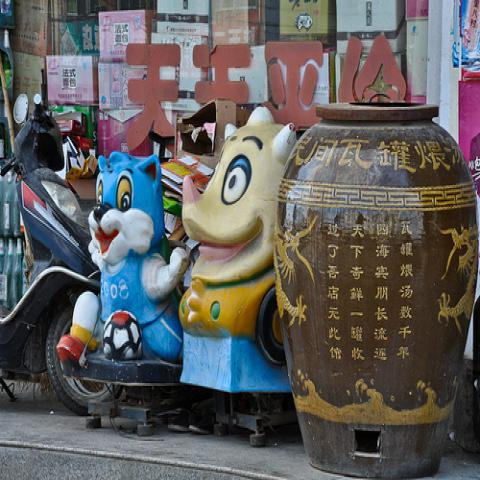motorcycle: (0, 94, 125, 412)
